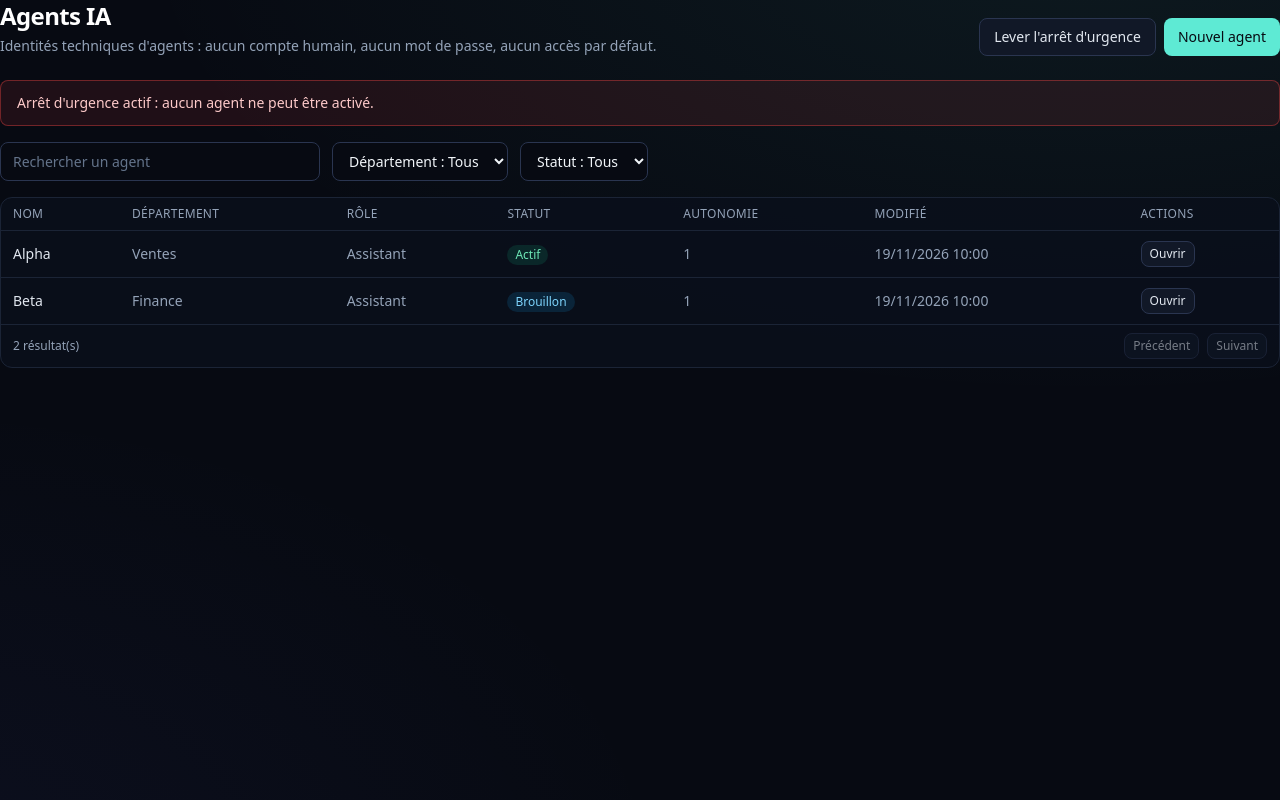
Scenario: AgentsView › arrêt d'urgence actif : bannière, levée réservée à agents:grant
Expected: the text "Arrêt d'urgence actif : aucun agent ne peut être activé." is shown, [17, 93, 374, 113]
What coordinates should you click on to do the following:
click the button "Lever l'arrêt d'urgence"
I would click on:
 (1068, 37)
Its box is [979, 18, 1156, 56].
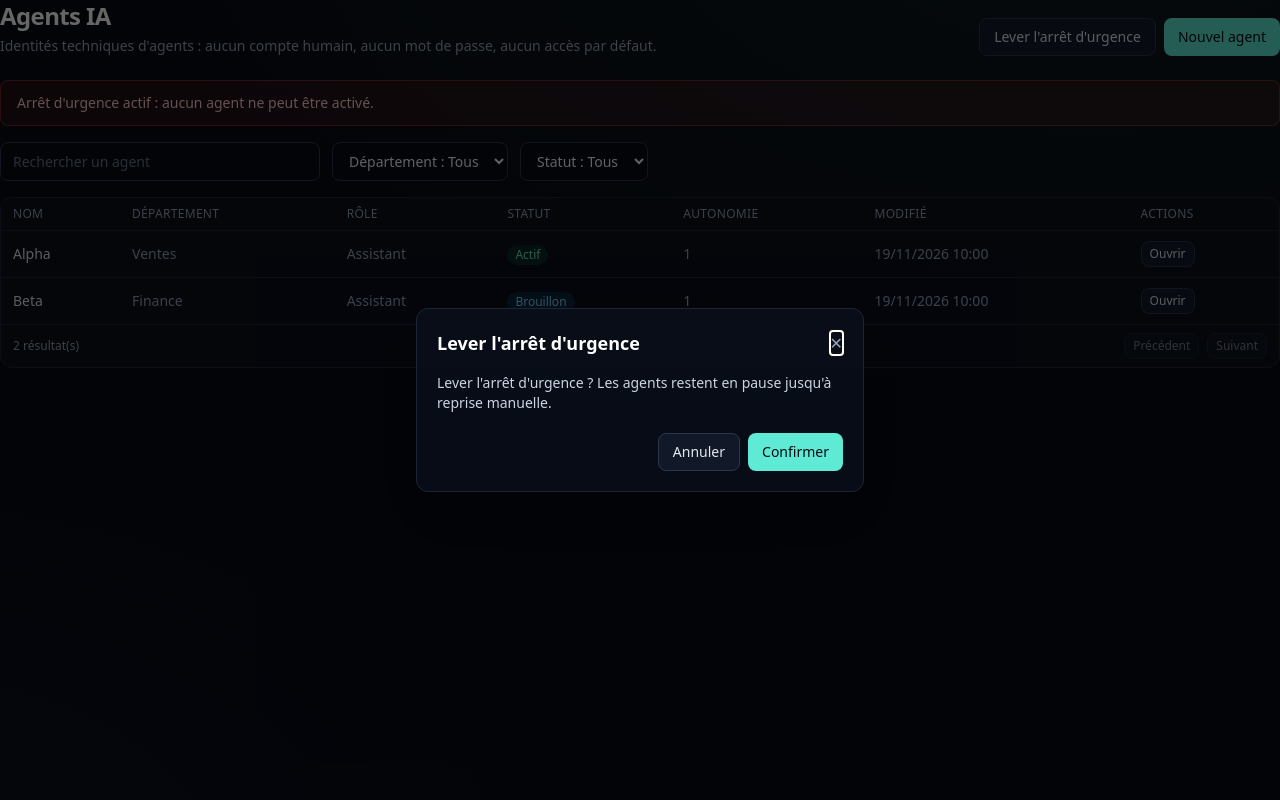
What coordinates should you click on to do the following:
click the button "Confirmer"
I would click on:
 (796, 452)
Its box is [748, 433, 843, 471].
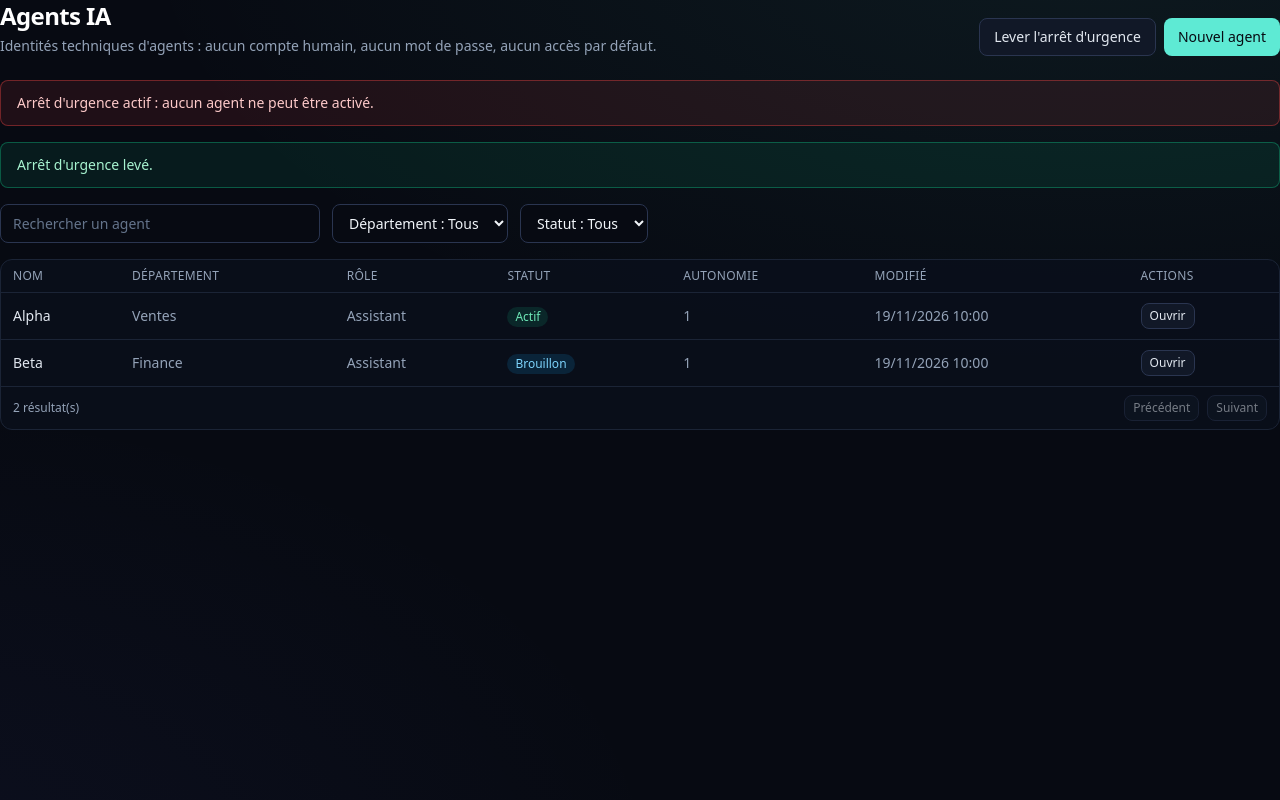
Now the text "Arrêt d'urgence levé." is shown, box [0, 142, 1279, 188]
